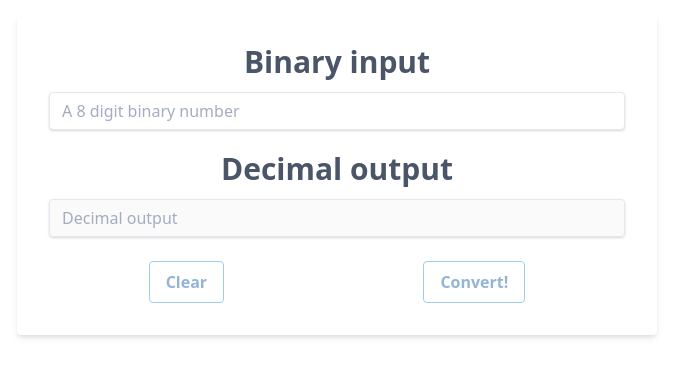
Test case: Binary input behavior › renders a error message after a non binary digit is typed
Type "1" into the field labelled "Binary input". click: [337, 111]
box: [49,92,625,130]
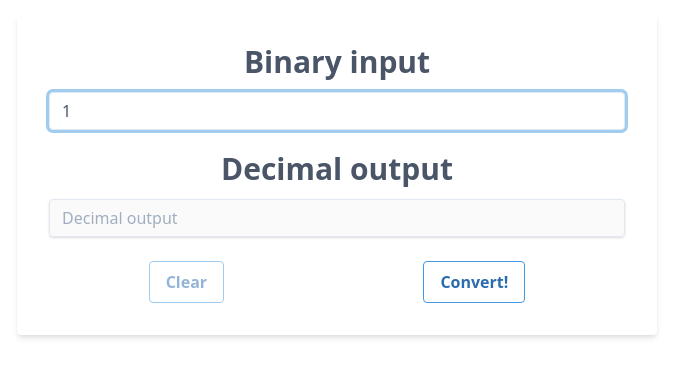
Expected: the text "Please, enter a binary number" is not shown
Type "2" into the field labelled "Binary input". click: [337, 111]
box: [49,92,625,130]
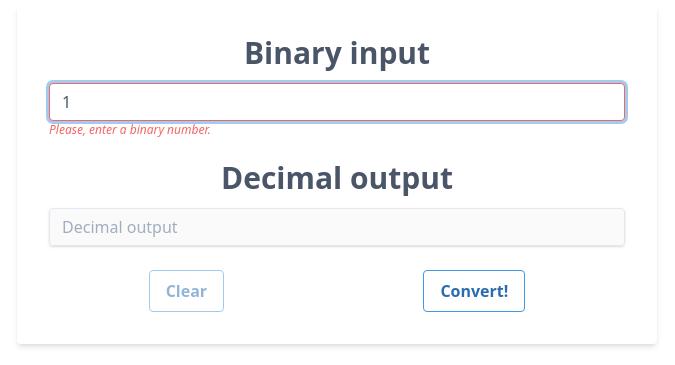
Expected: the text "Please, enter a binary number." is shown, [49,121,211,138]
